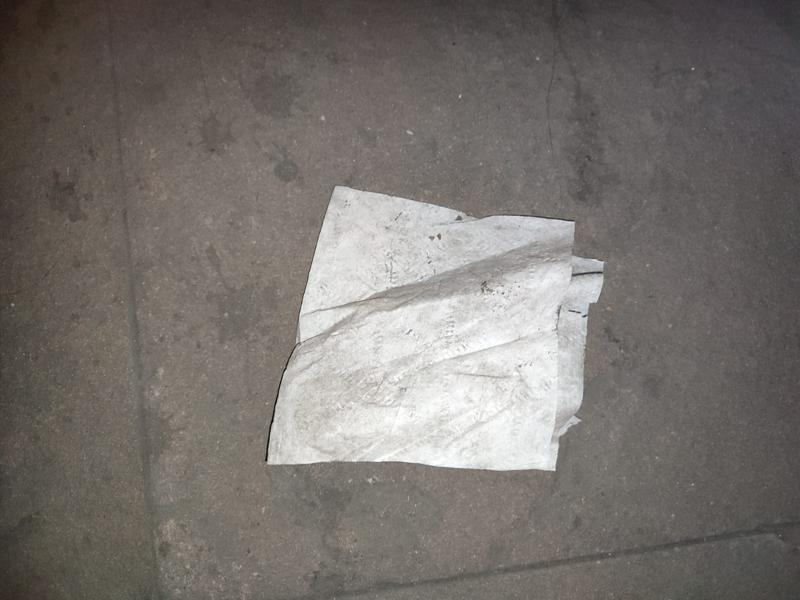papel: (266, 187, 605, 473)
